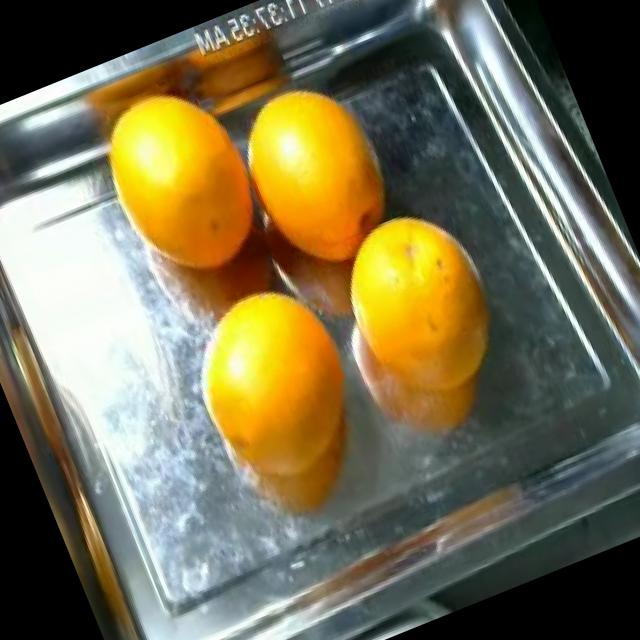Fruit: (304, 178, 530, 424), (213, 47, 428, 290), (83, 51, 286, 292)
